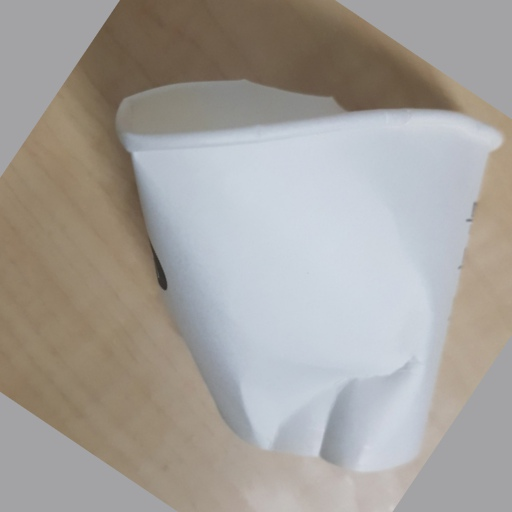Paper_1: (112, 79, 503, 471)
